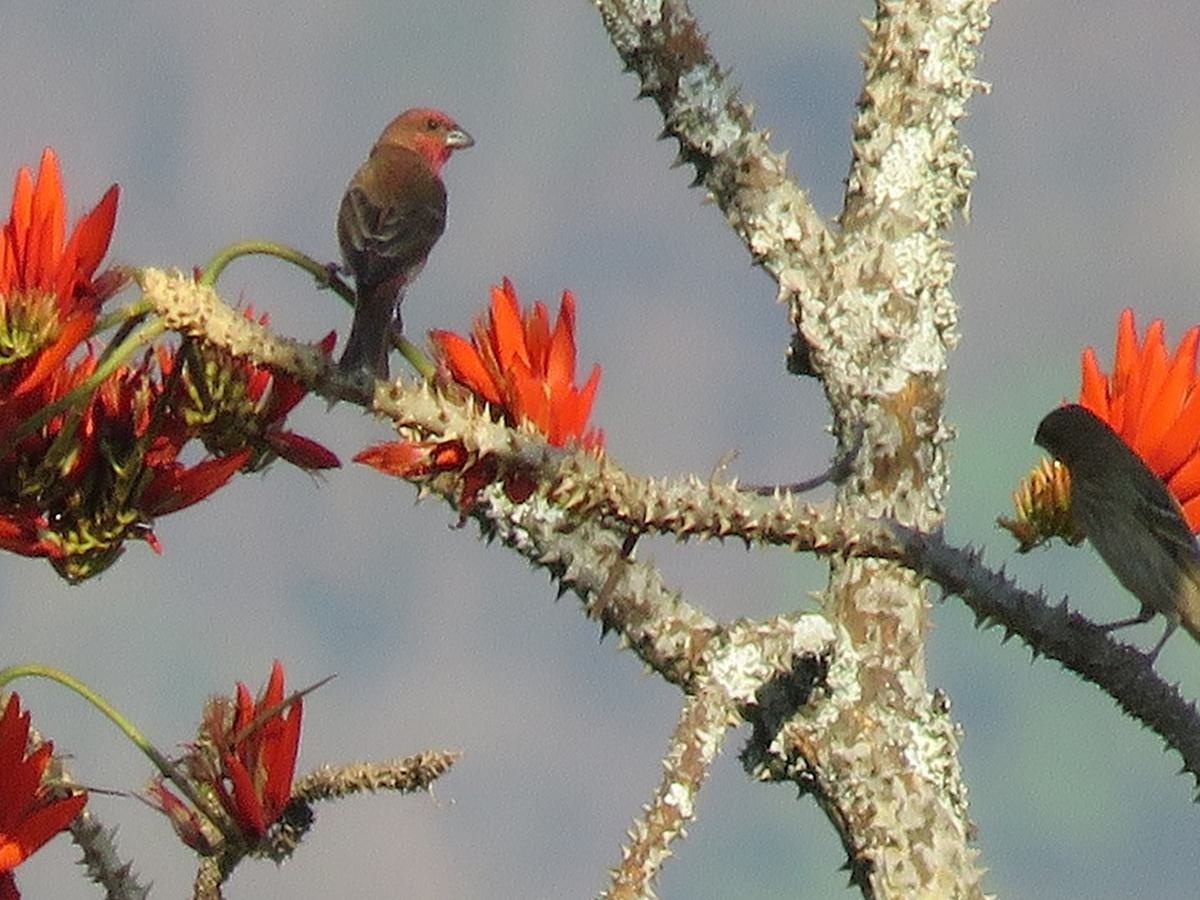rosefinch: (364, 95, 471, 348)
